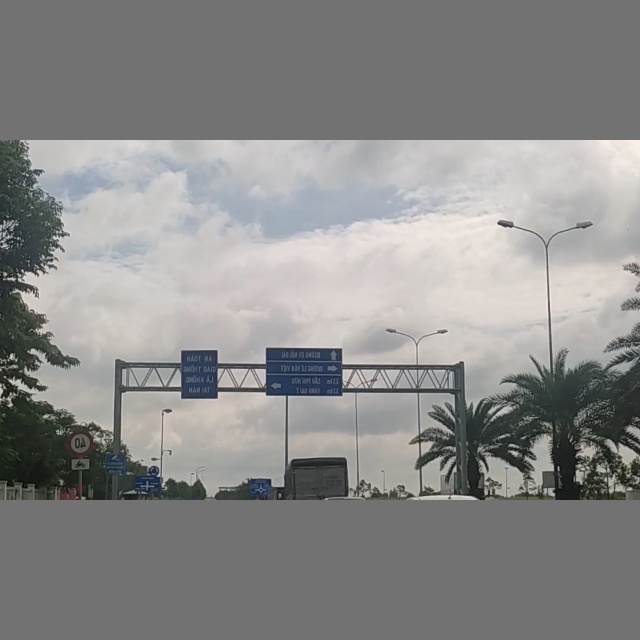P.127*40: (67, 429, 93, 455)
S.505a*Xe may: (69, 457, 93, 472)
